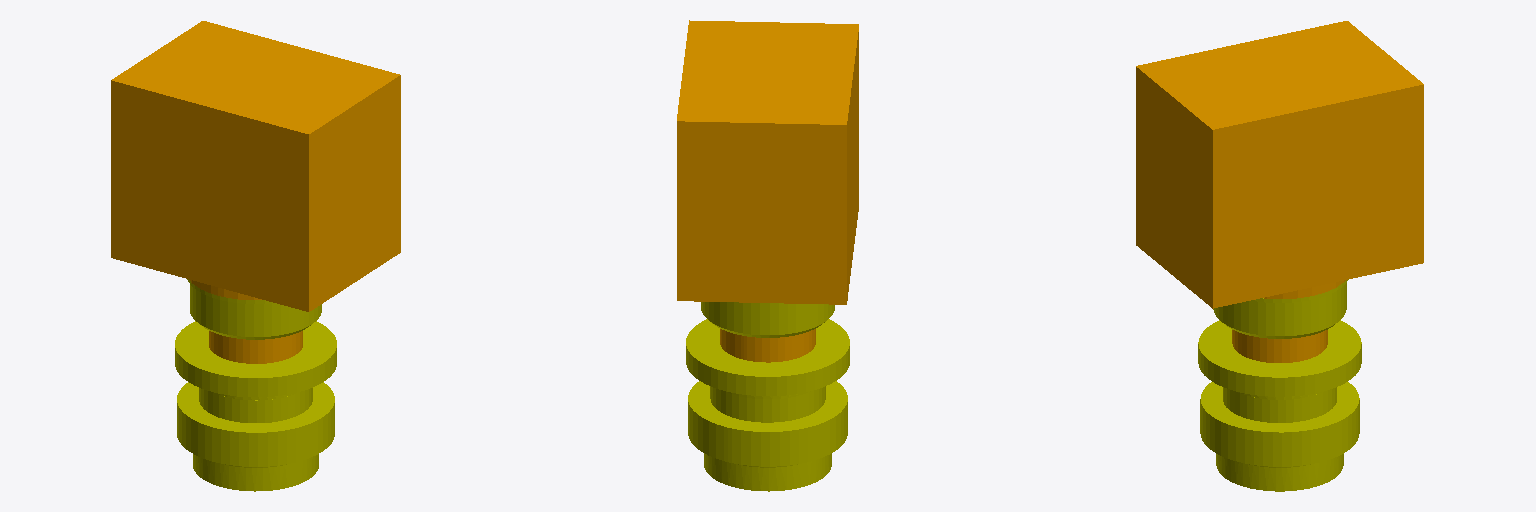
The robot description file, URDF, robot "cylinder":
<?xml version="1.0"?>
<robot name="cylinder">
  <link name="base_link">
		<visual> <geometry> <mesh filename="Schunk/L7.dae" /> </geometry> </visual>
		<collision> <origin xyz="0.0 -0.0 0.02615" rpy="0.0 0.0 0.4712"/> <geometry> <box size="0.08 0.112 0.2025"/> </geometry> </collision> 
  </link>
</robot>

--- Render facts (derived) ---
Views: 3 orthographic renders of the robot side by side, from view 1: azimuth 30°, elevation 25°; view 2: azimuth 150°, elevation 25°; view 3: azimuth 270°, elevation 25°.
Robot: cylinder — 1 links, 0 joints (none); root link base_link; default pose: all joints at 0.
Visible links, largest first — view 1: base_link; view 2: base_link; view 3: base_link.
Link boxes in pixels (x1,y1,x2,y2): base_link: [111, 21, 400, 491]; base_link: [677, 20, 858, 491]; base_link: [1136, 21, 1423, 491].
Size in the robot's own frame: 0.1221 by 0.1361 by 0.2026 metres.
Meshes: 1 distinct files referenced, 1 mesh visuals loaded (1 Collada DAE).